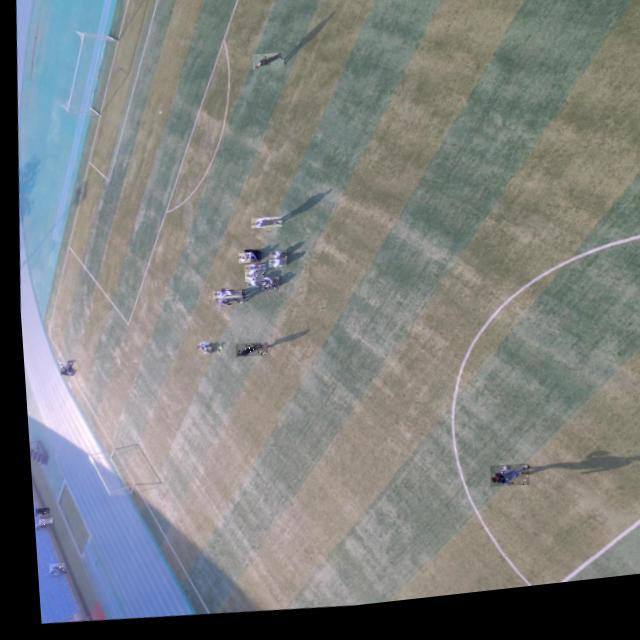Person: (482, 472, 523, 499), (251, 56, 284, 76), (230, 345, 263, 363), (247, 220, 279, 234), (216, 292, 241, 306), (254, 281, 276, 296), (208, 293, 238, 304), (212, 299, 240, 309), (240, 253, 258, 268), (192, 344, 208, 359), (242, 280, 260, 293), (241, 267, 262, 278), (241, 275, 260, 287), (265, 263, 283, 274), (41, 562, 57, 573), (266, 255, 283, 265), (234, 256, 248, 268), (43, 566, 59, 576), (28, 506, 43, 516), (31, 516, 45, 524), (58, 368, 69, 377), (57, 361, 67, 370), (27, 521, 39, 528), (31, 512, 43, 519), (55, 368, 64, 375), (54, 362, 61, 367)
